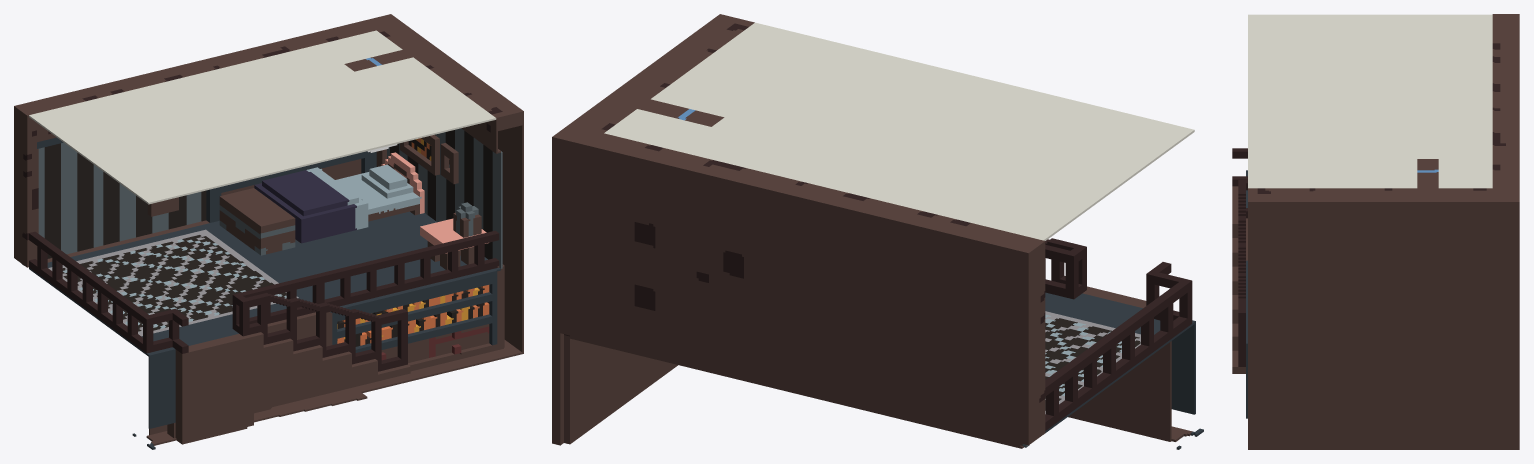
File: Player House-2-bedroom.obj
The picture shows the model from 3 angles, left to right: view 1: azimuth 30°, elevation 25°; view 2: azimuth 150°, elevation 25°; view 3: azimuth 270°, elevation 25°; orthographic projection. The views are drawn at different scales.
Visible parts, largest first — view 1: bedroom; view 2: bedroom; view 3: bedroom.
Part boxes in pixels (box(x1,y1,x2,y2)): bedroom: box(14, 14, 523, 449); bedroom: box(552, 14, 1203, 449); bedroom: box(1232, 14, 1519, 449).
Bounding box in the file's own units: 23.1 × 14.2 × 14.9.
Materials: 1 (1 with a texture image).
